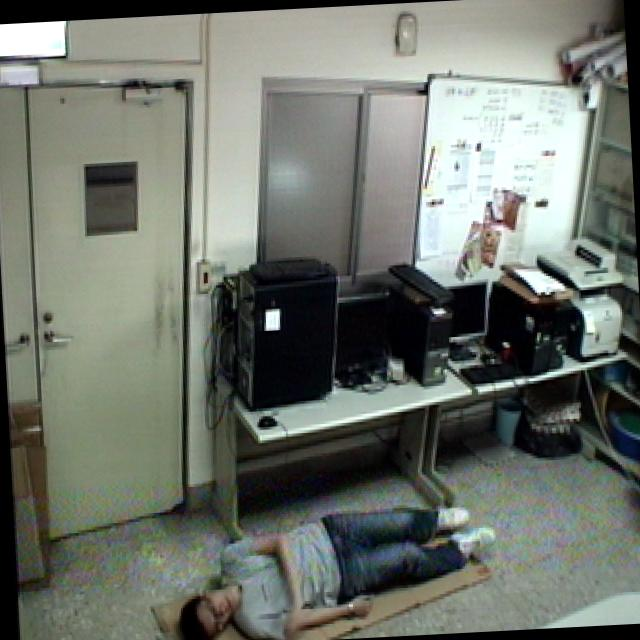lie: (166, 471, 504, 640)
